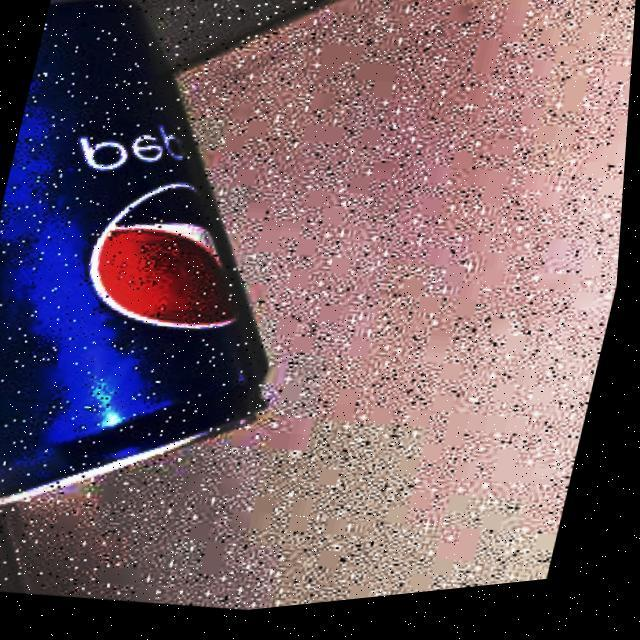Lata: (1, 0, 271, 507)
